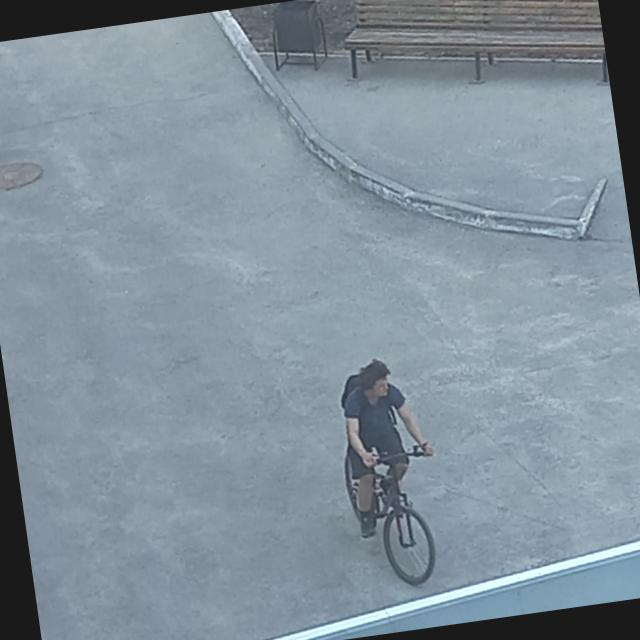person: (334, 352, 444, 538)
